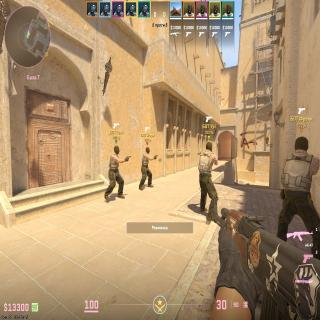T-Body: (282, 136, 320, 254), (199, 142, 218, 215), (109, 146, 124, 196), (141, 147, 151, 187)
T-Head: (295, 136, 309, 152), (206, 142, 212, 152), (114, 146, 120, 154), (146, 147, 150, 153)
